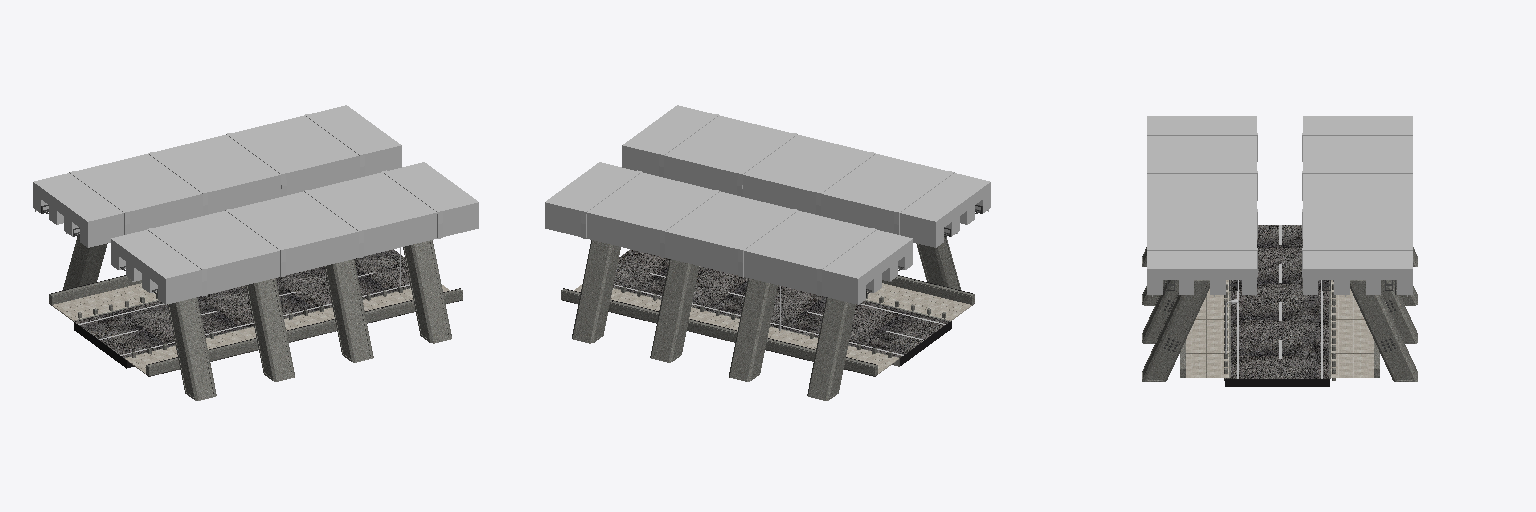
3 renders of one model, left to right at view 1: azimuth 30°, elevation 25°; view 2: azimuth 150°, elevation 25°; view 3: azimuth 270°, elevation 25°, orthographic.
Visible parts, largest first — view 1: Studio_Bypass; view 2: Studio_Bypass; view 3: Studio_Bypass.
Boxes of the visible parts, x1,y1,x2,y2 form: Studio_Bypass: [33, 105, 478, 400]; Studio_Bypass: [545, 105, 990, 400]; Studio_Bypass: [1142, 116, 1417, 386].
Size of the model in its own units: 56.07 by 22 by 42.77.
9 materials, 3 textured.